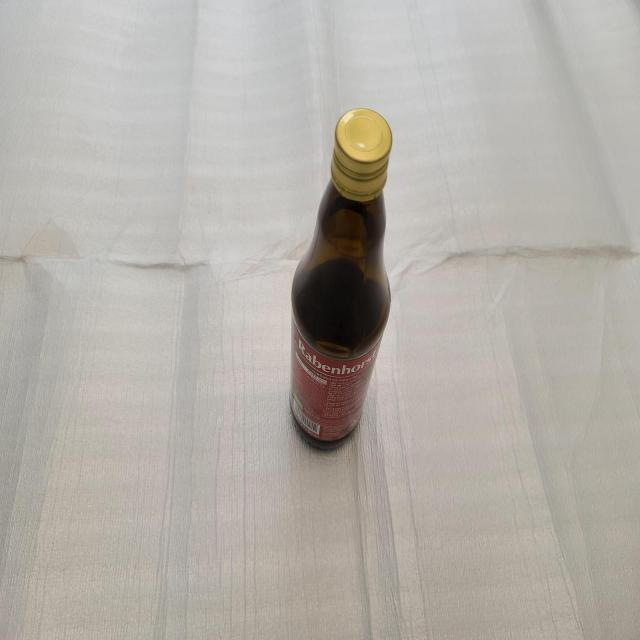glass: (290, 108, 392, 447)
